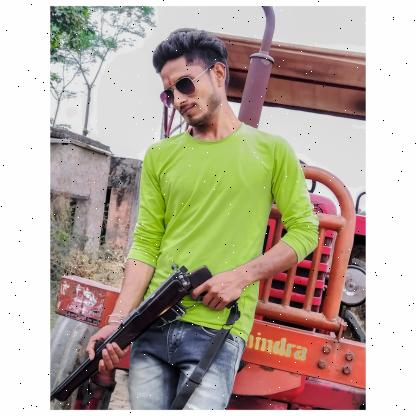rifle: (50, 262, 242, 402)
